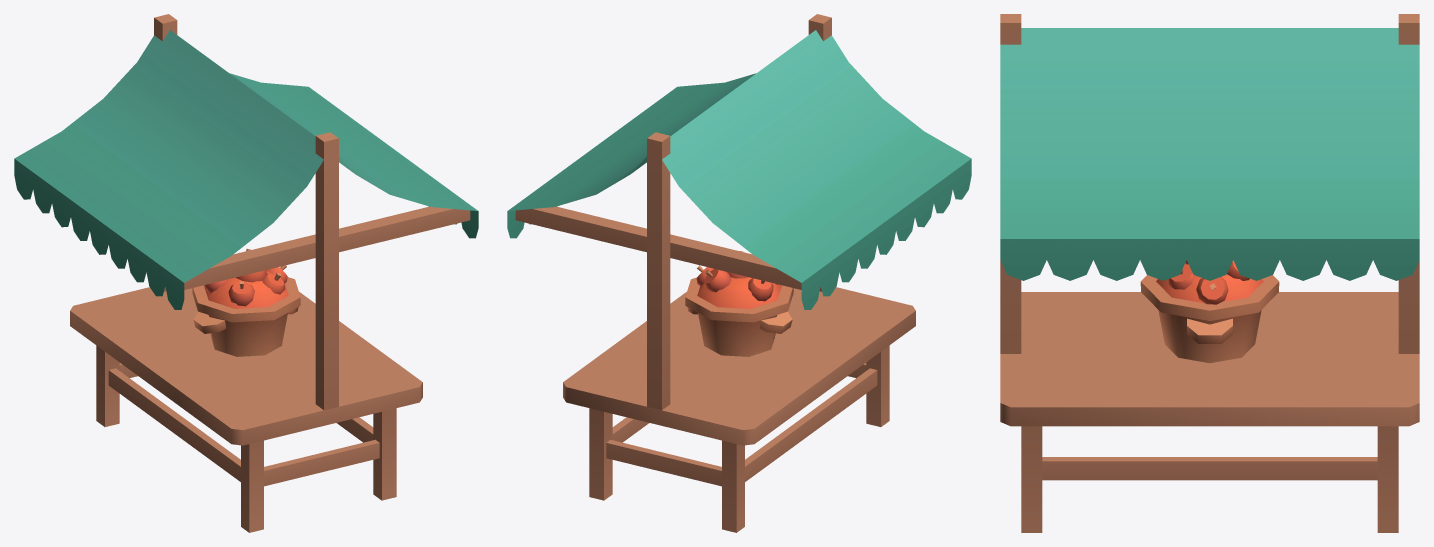
File: veg_stall.glb
3 views of the same model, side by side, from view 1: azimuth 30°, elevation 25°; view 2: azimuth 150°, elevation 25°; view 3: azimuth 270°, elevation 25° (orthographic). The views are drawn at different scales.
Parts seen in each view (by area): view 1: stall-green, display-fruit; view 2: stall-green, display-fruit; view 3: stall-green, display-fruit.
Part boxes in pixels (x1,y1,x2,y2): stall-green: (14, 14, 478, 532); display-fruit: (192, 249, 300, 356); stall-green: (507, 14, 971, 532); display-fruit: (685, 251, 793, 356); stall-green: (1000, 14, 1419, 532); display-fruit: (1140, 260, 1279, 363).
Size of the model in its own units: 1.8 by 2.23 by 1.8.
2 materials, 2 textured.
